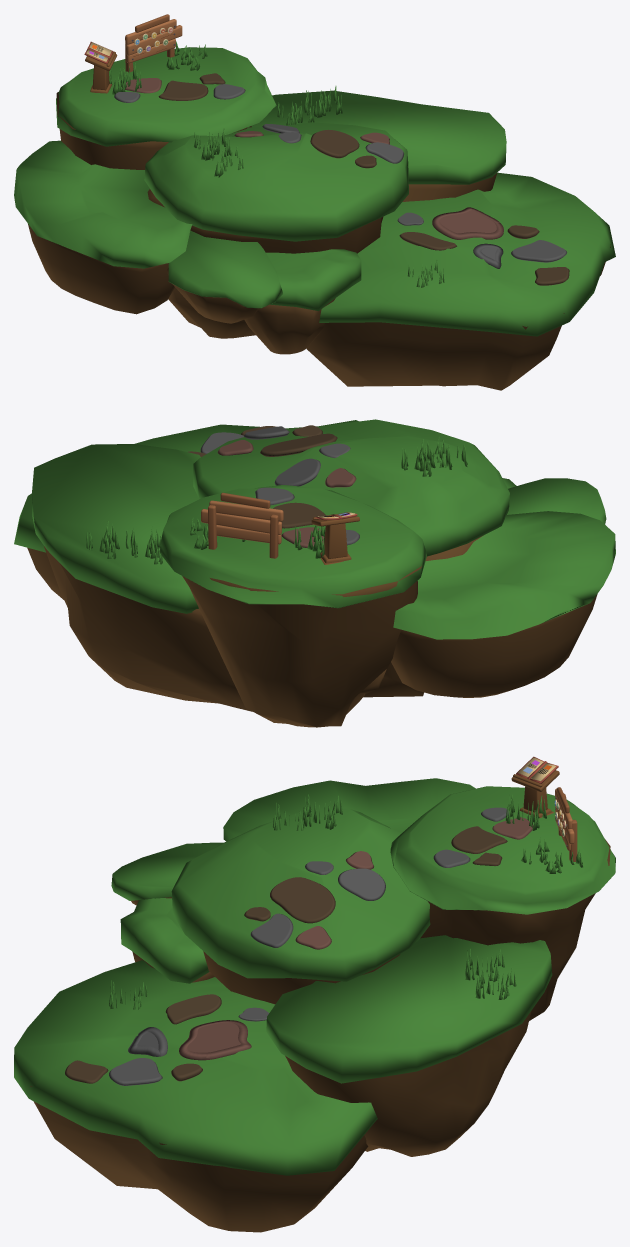
Rendered from ilha.glb.
3 renders of one model, top to bottom at view 1: azimuth 30°, elevation 25°; view 2: azimuth 150°, elevation 25°; view 3: azimuth 270°, elevation 25°, orthographic. The views are drawn at different scales.
Visible parts, largest first — view 1: grande_rock001, grass_center, GRASS_swamp, grass_mountain, grande_rock, grass_savanna, escadinha1_grama, rock_swamp, escadinha2_grama, rock_center, escadinha2.001, rock_mountain (+13 smaller); view 2: rock_mountain, grass_center, grass_savanna, GRASS_swamp, grass_mountain, rock_savanna, rock_swamp, escadinha1_grama, grande_rock001, tabuas, rock_center, atril topo (+15 smaller); view 3: grande_rock001, grass_center, grass_savanna, grass_mountain, grande_rock, rock_savanna, GRASS_swamp, rock_mountain, escadinha2_grama, escadinha1_grama, Ellipse 2, Ellipse 9 (+10 smaller).
Part boxes in pixels (x1,y1,x2,y2): grande_rock001: (319,172,615,336); grass_center: (144,122,408,241); GRASS_swamp: (14,140,192,268); grass_mountain: (56,47,276,146); grande_rock: (306,244,610,390); grass_savanna: (251,90,506,184); escadinha1_grama: (168,230,283,308); rock_swamp: (28,224,174,314); escadinha2_grama: (266,249,361,311); rock_center: (147,189,383,338); escadinha2.001: (244,298,335,354); rock_mountain: (56,92,251,169); rock_mountain: (182,565,421,727); grass_center: (193,419,509,556); grass_savanna: (32,444,200,613); GRASS_swamp: (393,511,615,639); grass_mountain: (160,485,426,608); rock_savanna: (44,546,386,711); rock_swamp: (391,594,597,697); escadinha1_grama: (507,478,606,524); grande_rock001: (14,420,358,552); tabuas: (201,500,283,544); rock_center: (363,535,483,697); atril topo: (311,513,359,564); grande_rock001: (14,960,377,1175); grass_center: (171,808,430,981); grass_savanna: (266,935,552,1083); grass_mountain: (390,786,615,914); grande_rock: (30,1086,368,1232); rock_savanna: (285,1011,531,1156); GRASS_swamp: (223,778,475,841); rock_mountain: (420,839,610,1020); escadinha2_grama: (120,898,209,983); escadinha1_grama: (111,842,223,900); Ellipse 2: (179,1020,251,1060); Ellipse 9: (270,877,335,923).
Bounding box in the file's own units: 14.9 × 7.32 × 13.29.
